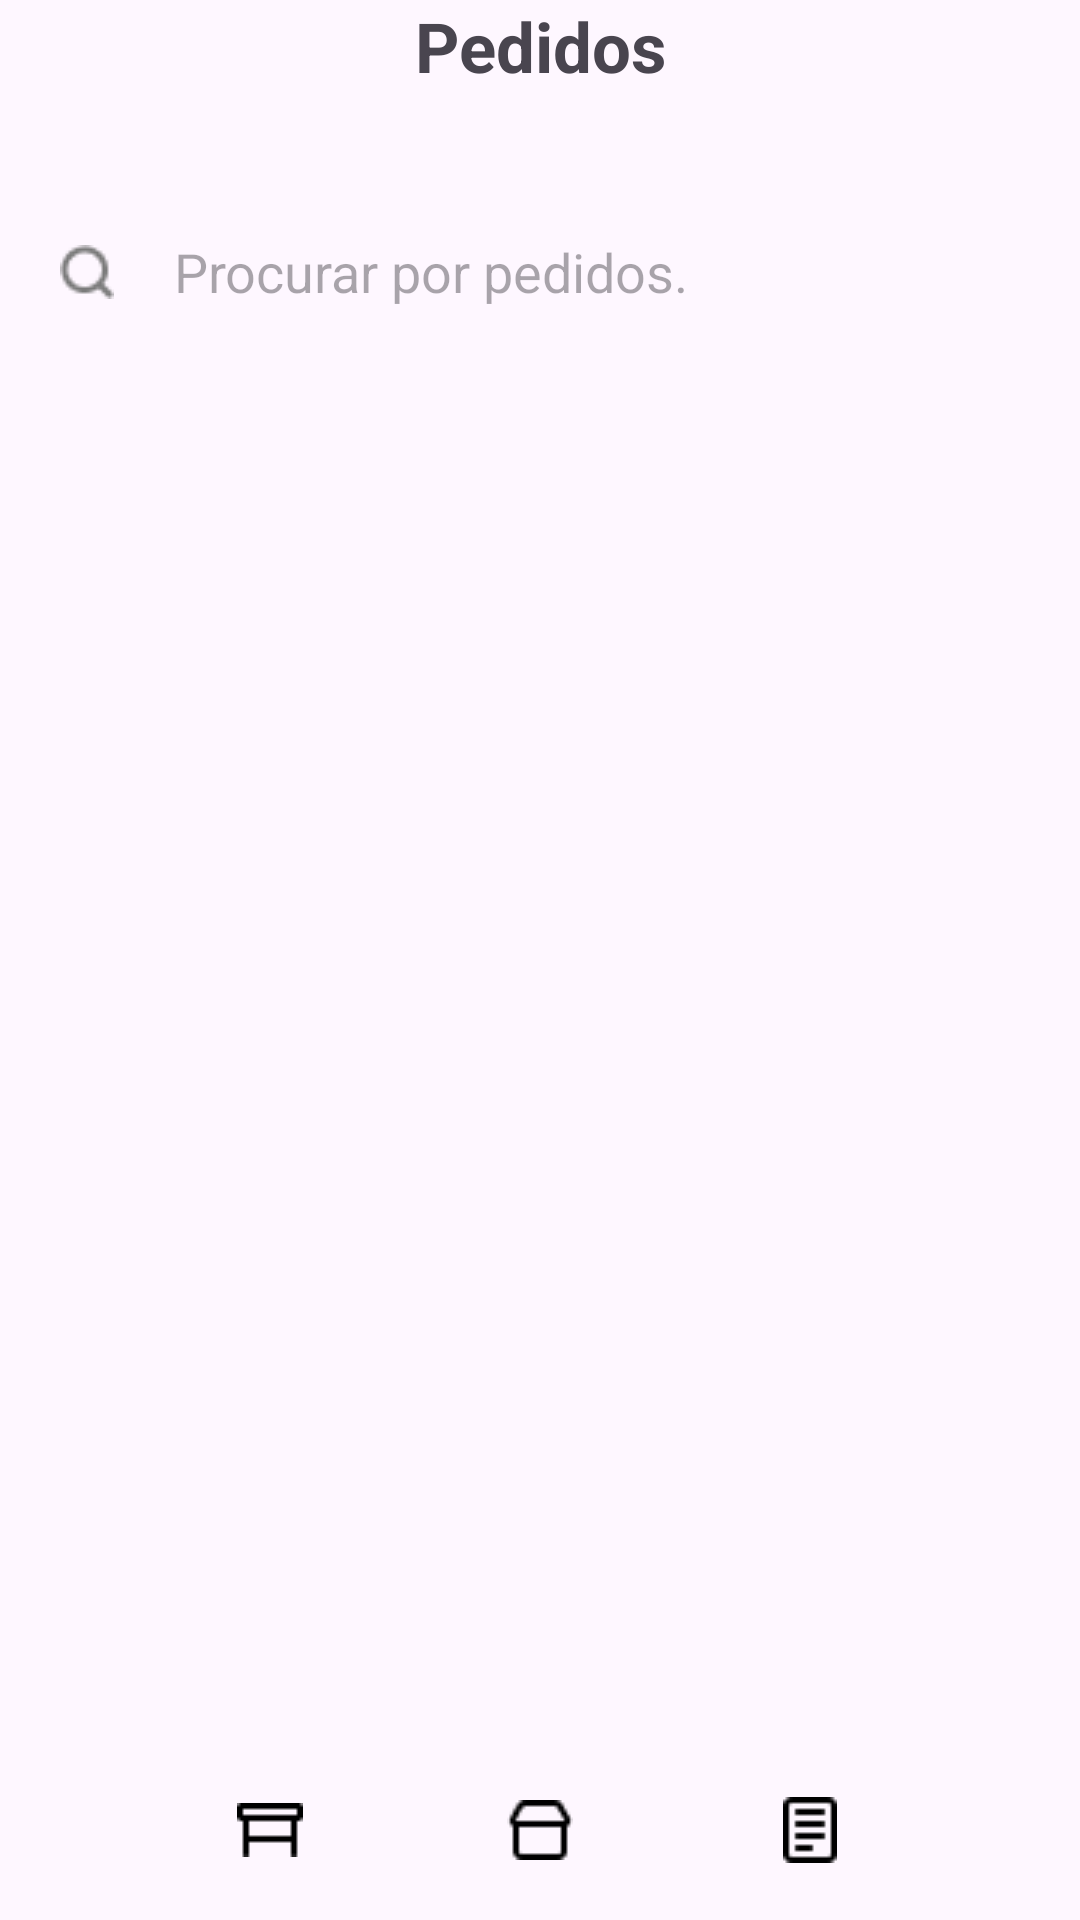

Where to tap for icons on this 1080x1920 app screen, as point (x, y):
list: point (810, 1830)
table: point (270, 1830)
